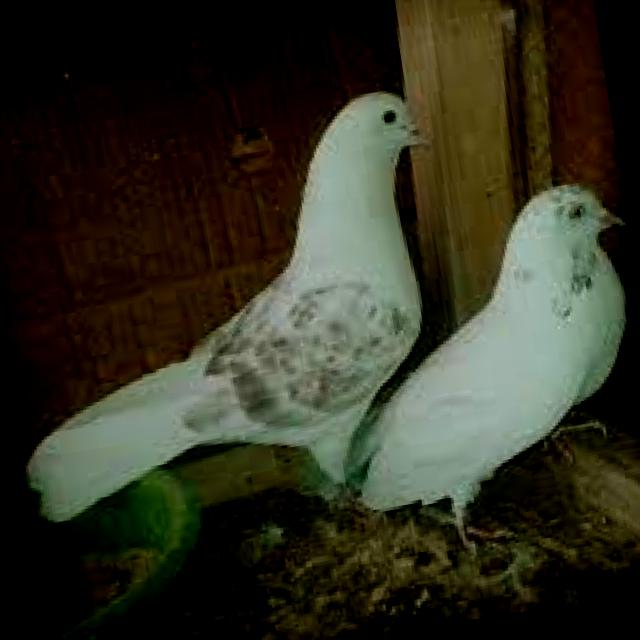bird: (0, 76, 477, 544), (303, 168, 640, 558)
